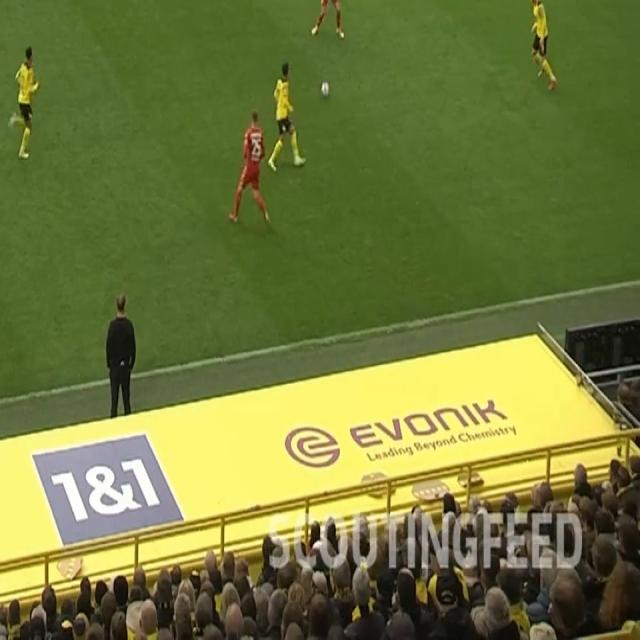ball: (320, 78, 331, 100)
